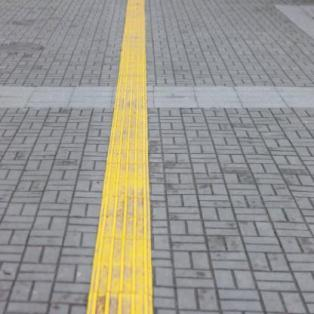Podoctatil: (87, 0, 152, 314)
